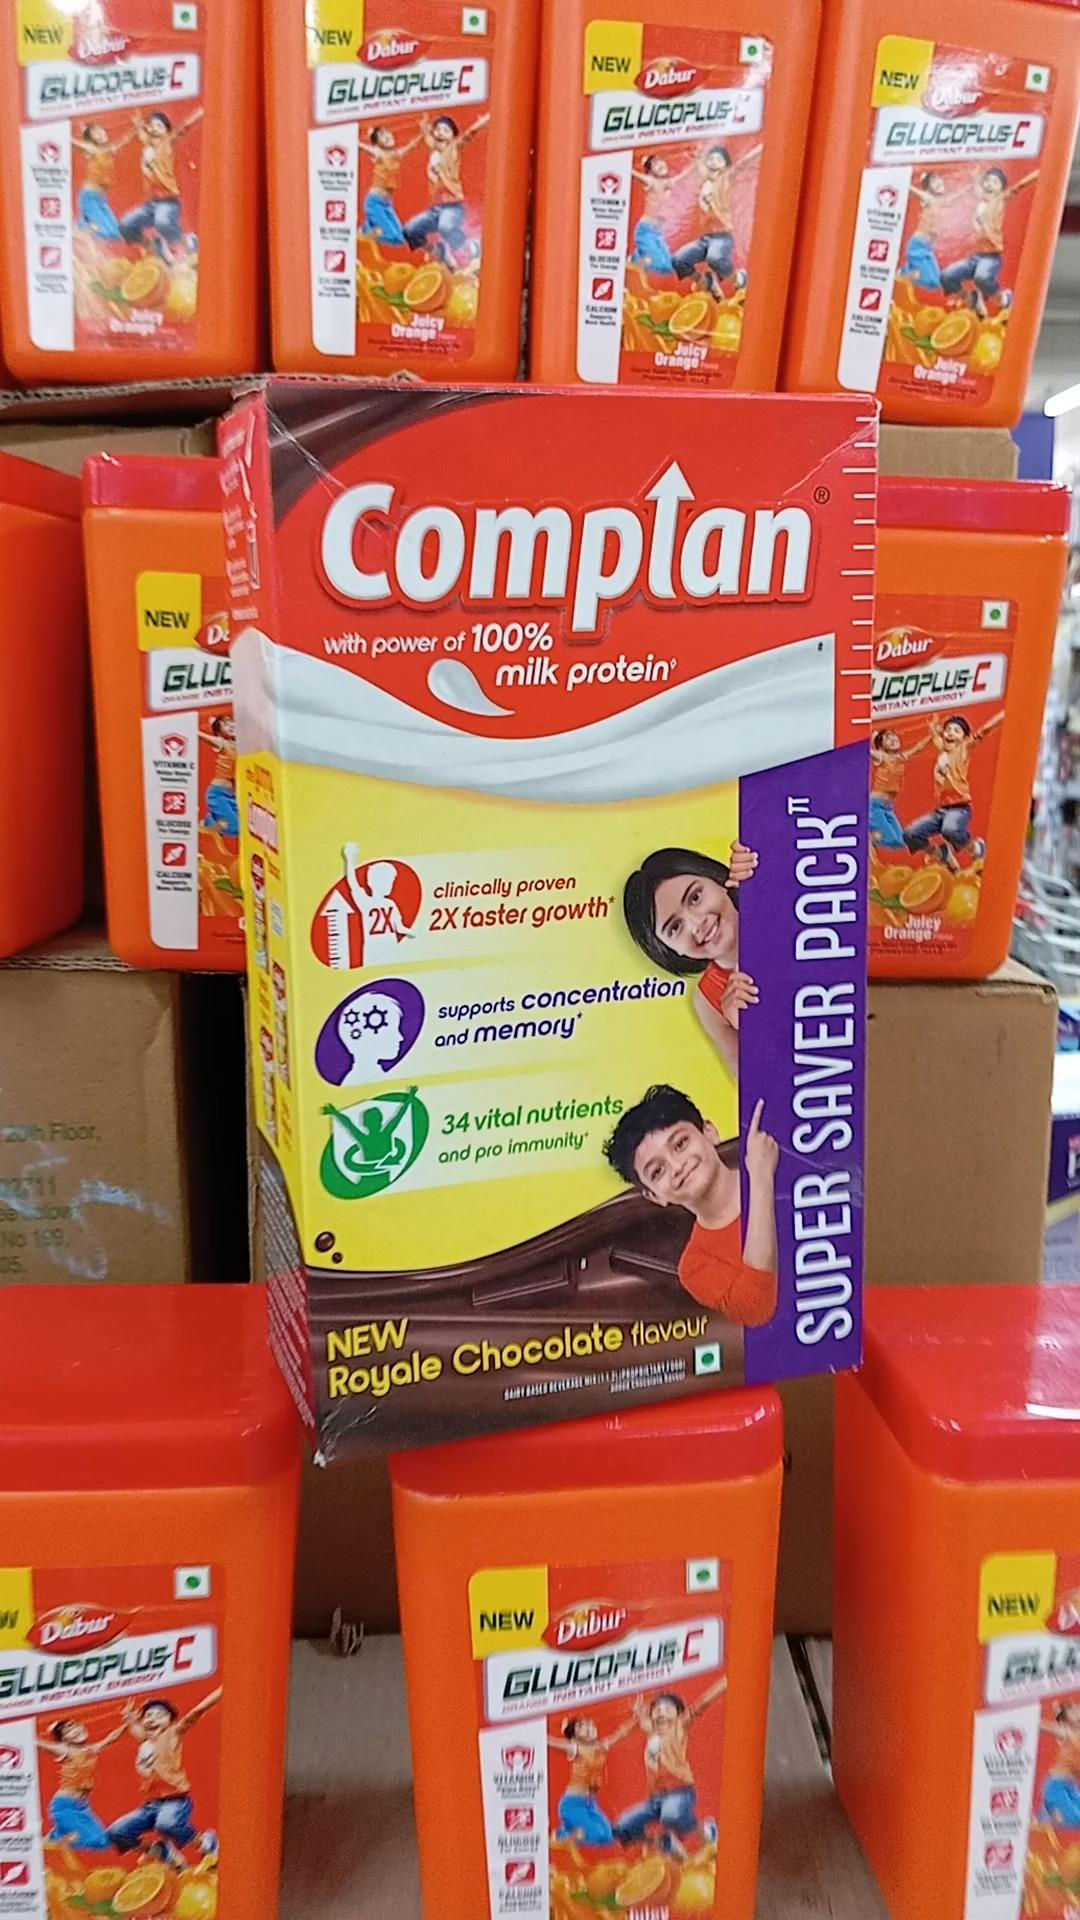COMPLAN_CHOCOLATE_1_KG_PACK: (273, 380, 870, 1439)
